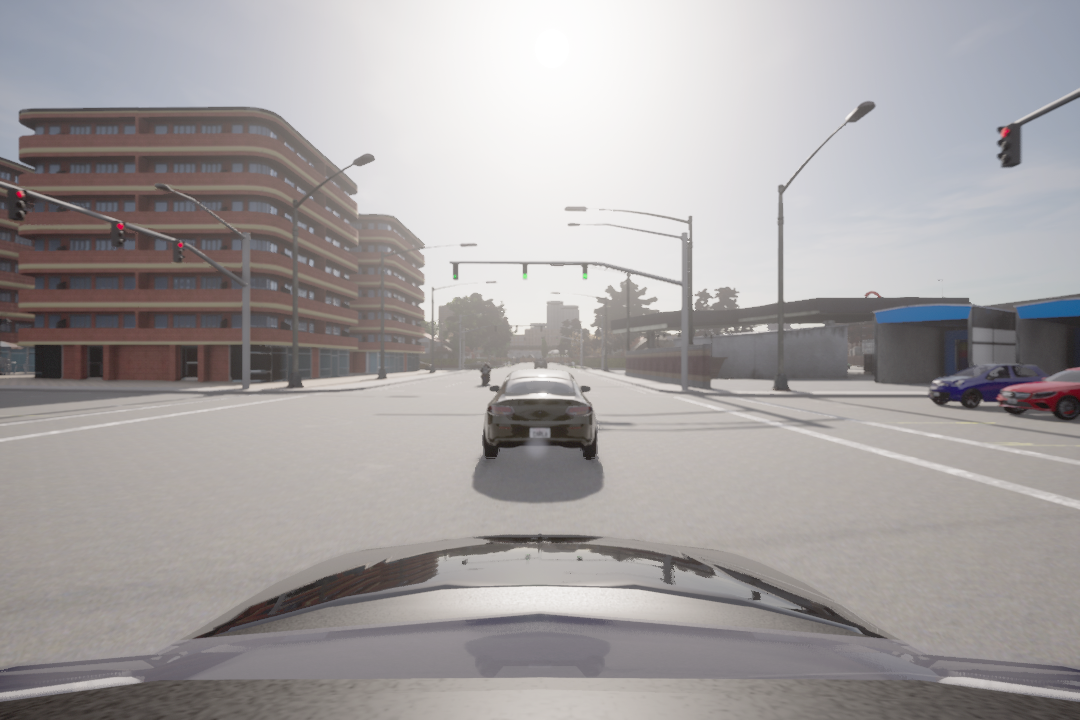TrafficLight: (997, 121, 1023, 176), (1, 187, 31, 224), (110, 217, 127, 249), (167, 236, 185, 266), (447, 261, 460, 284), (578, 262, 591, 282), (521, 261, 527, 283)
